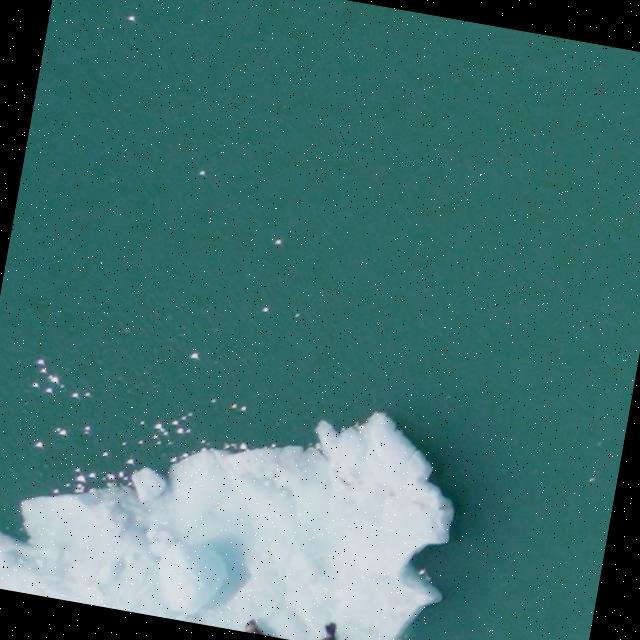seal: (245, 620, 270, 636), (323, 621, 337, 640)
